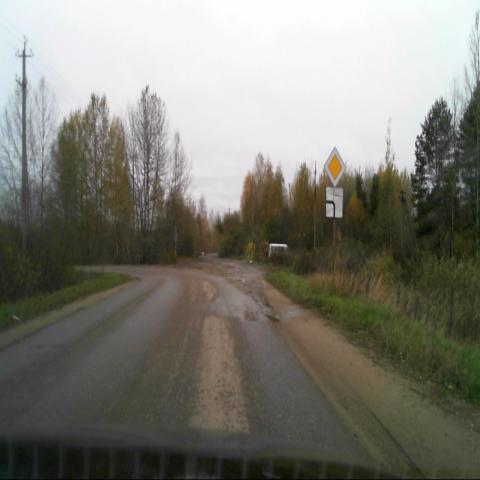8_13: (326, 188, 343, 217)
